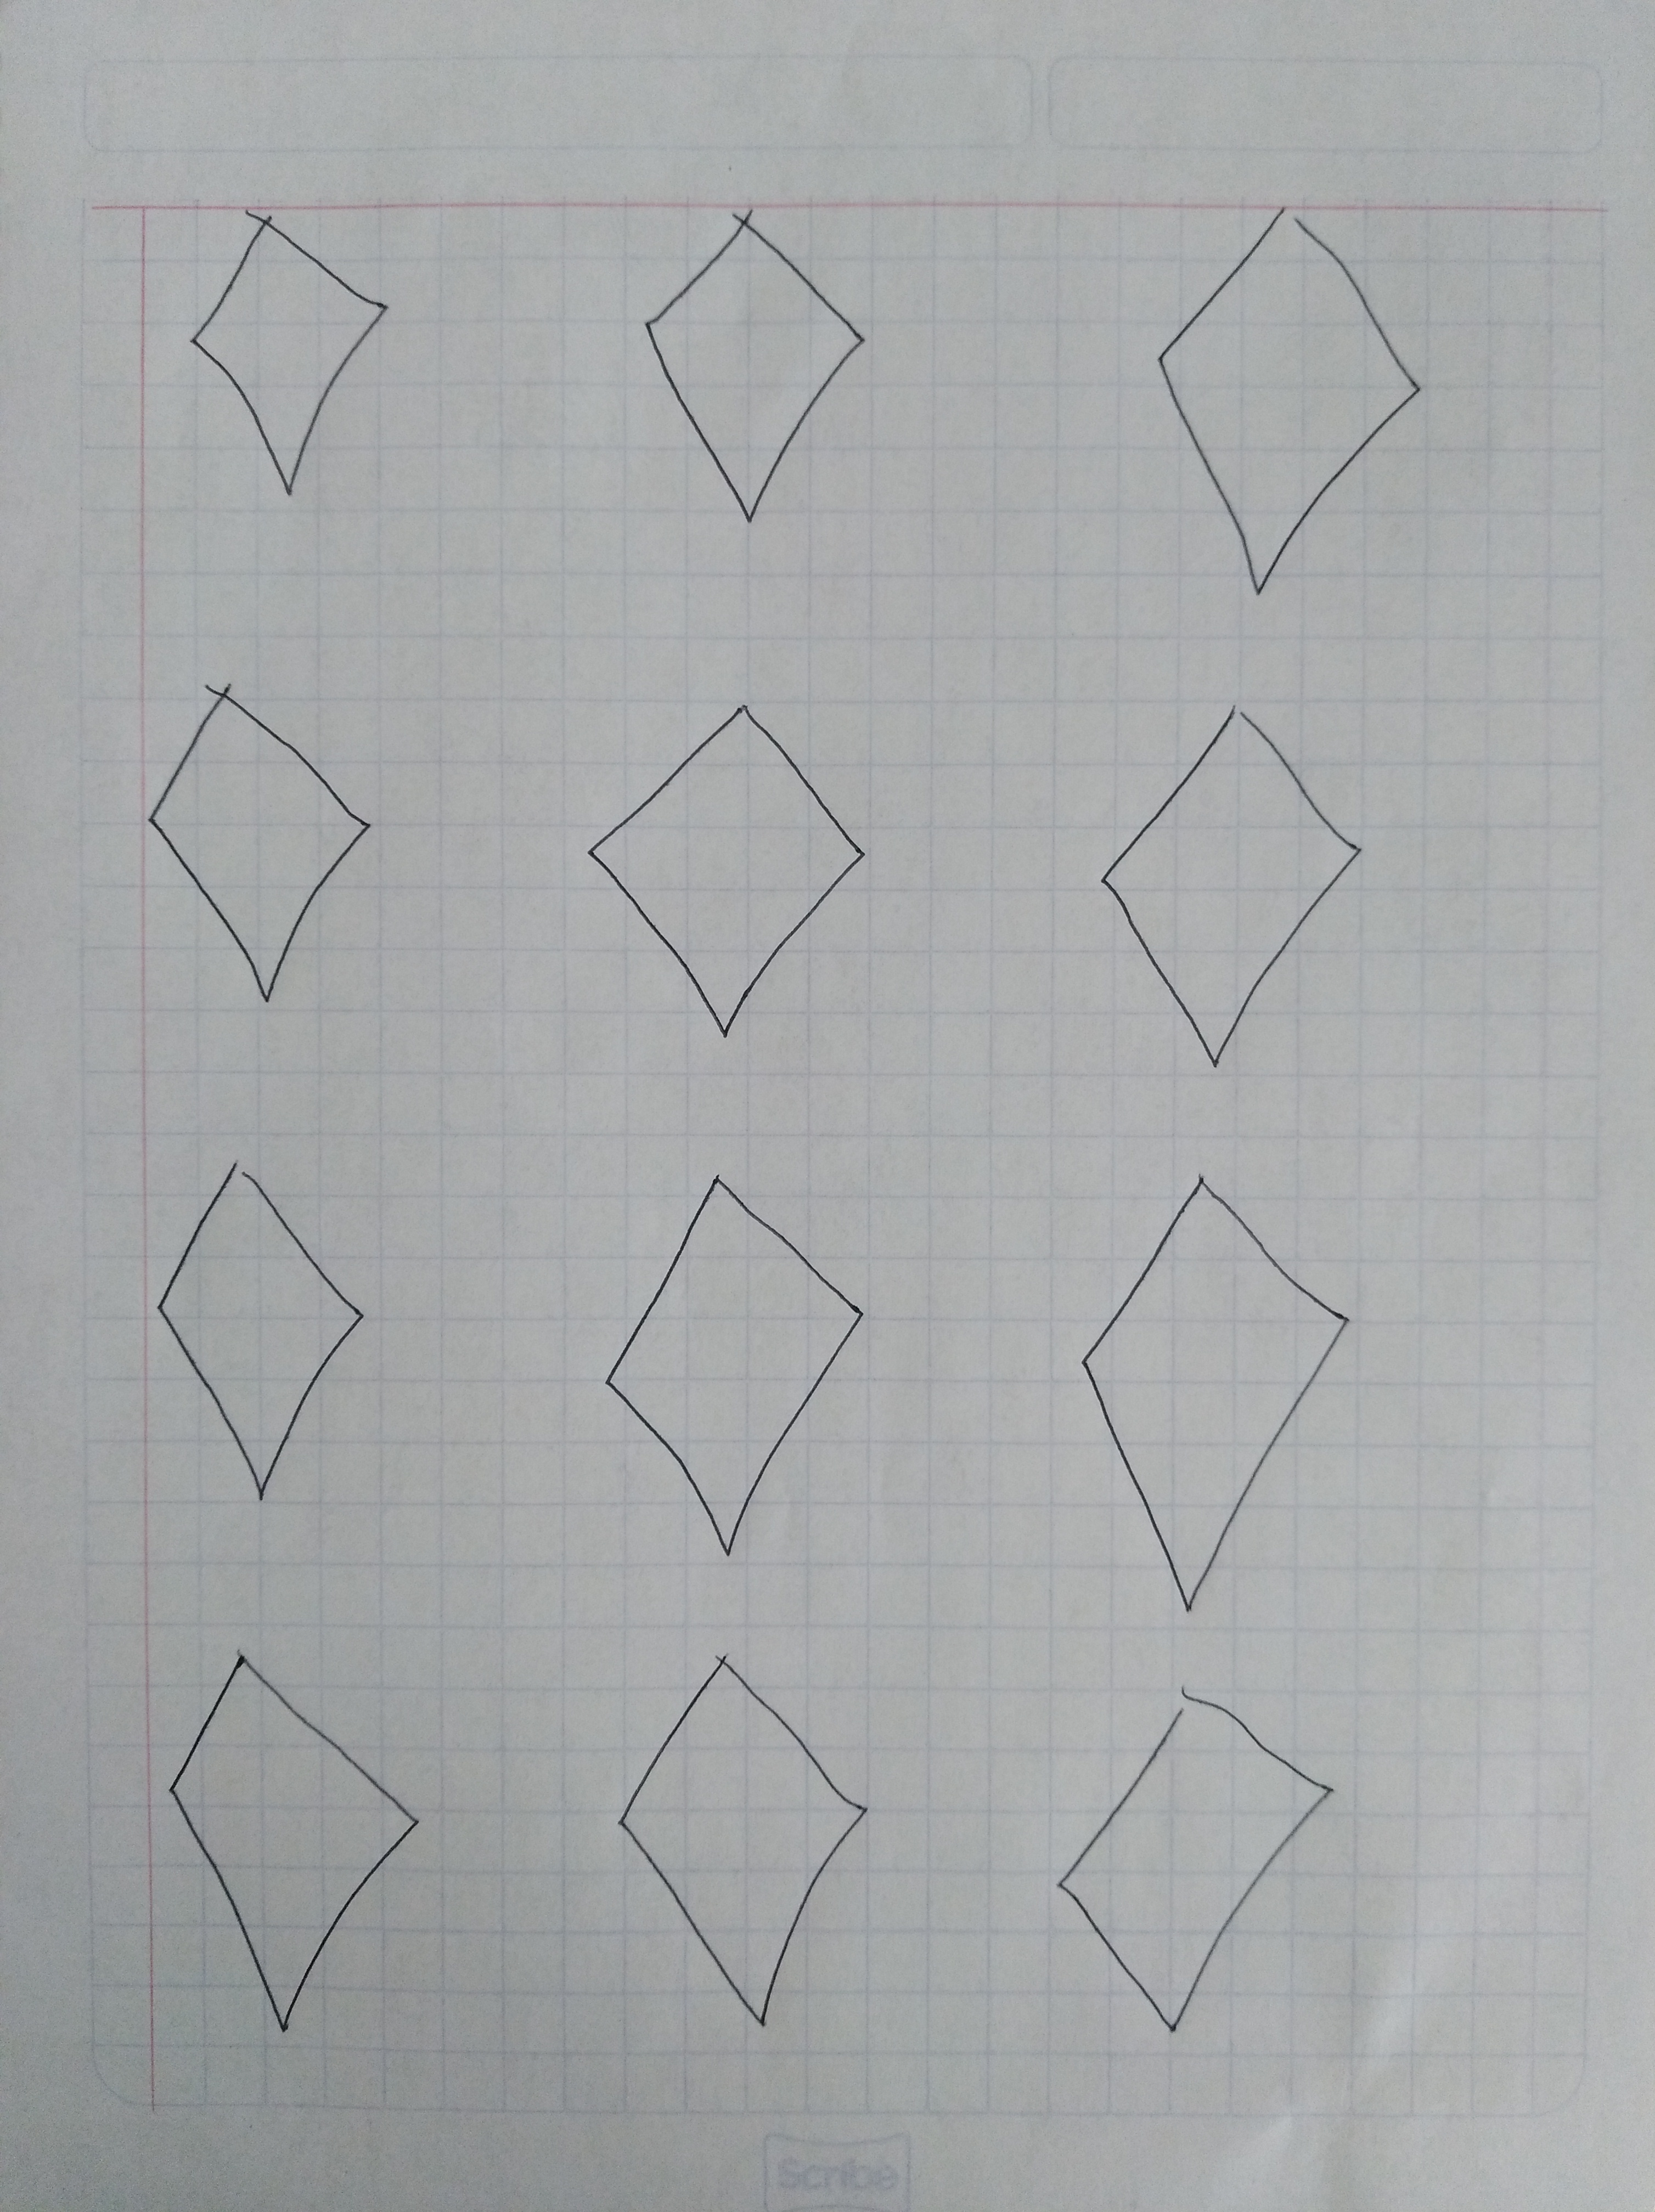decision: (1048, 1154, 1377, 1633), (1113, 188, 1467, 620), (565, 1152, 890, 1586), (1066, 679, 1391, 1096), (141, 1626, 452, 2057), (1027, 1665, 1368, 2050), (563, 671, 880, 1065), (586, 1639, 894, 2043), (111, 1142, 414, 1522), (108, 662, 412, 1027), (605, 182, 890, 544), (137, 189, 436, 530)
